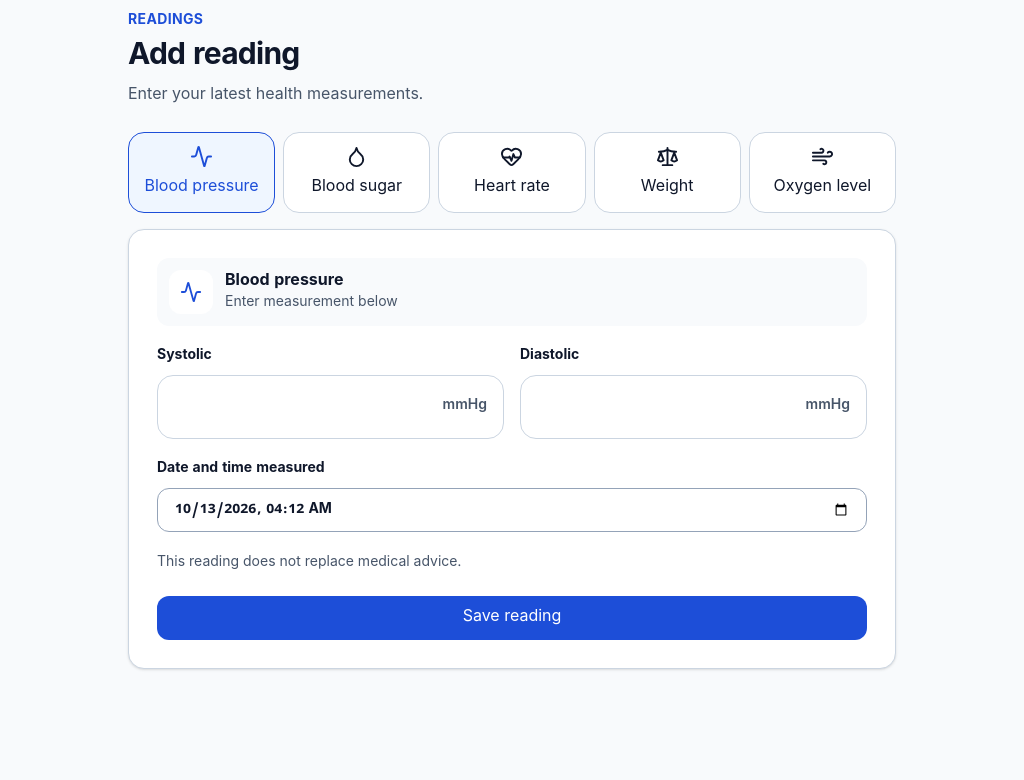
Test: AddReadingPage › validates required vitals and queues a critical reading when offline
Step 1. Click the button "Save reading" → {"x": 512, "y": 618}, box [157,596,867,640]
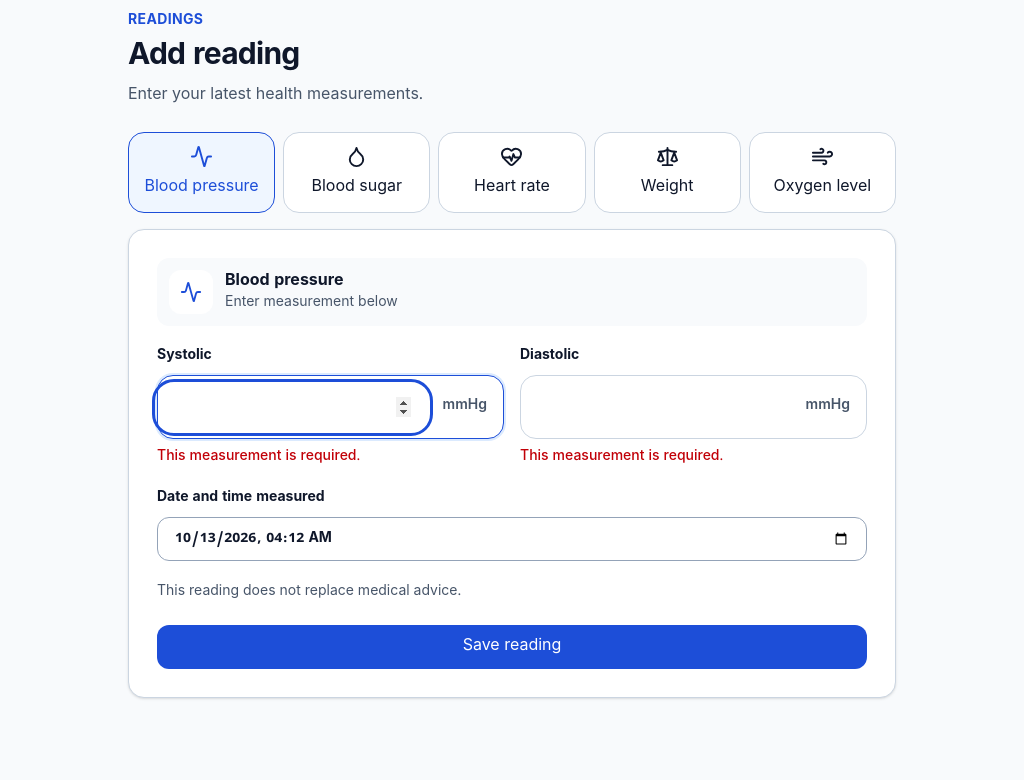
Result: the number of messages is 2 at [157,448,360,467]; [520,448,723,467]
Step 2. Type "184" into the number field named "Systolic (mmHg)" → {"x": 292, "y": 407}, box [158,384,427,430]
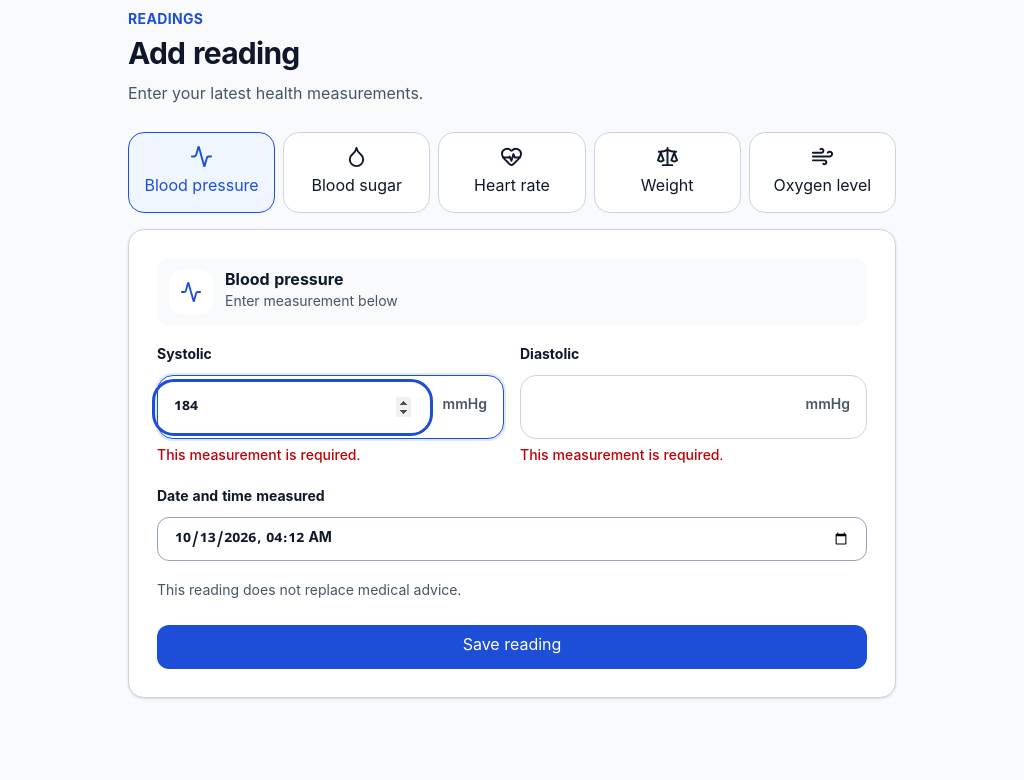
Step 3. Type "122" into the number field named "Diastolic (mmHg)" → {"x": 655, "y": 407}, box [521,384,790,430]
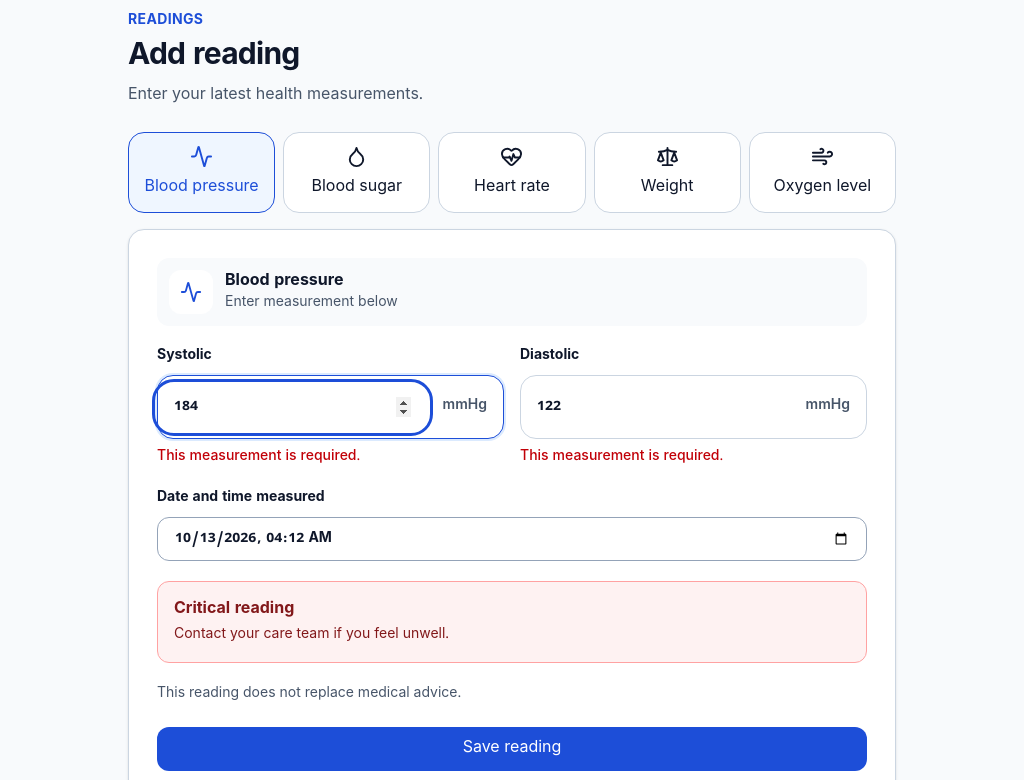
Step 4. Click the button "Save reading" → {"x": 512, "y": 749}, box [157,727,867,771]
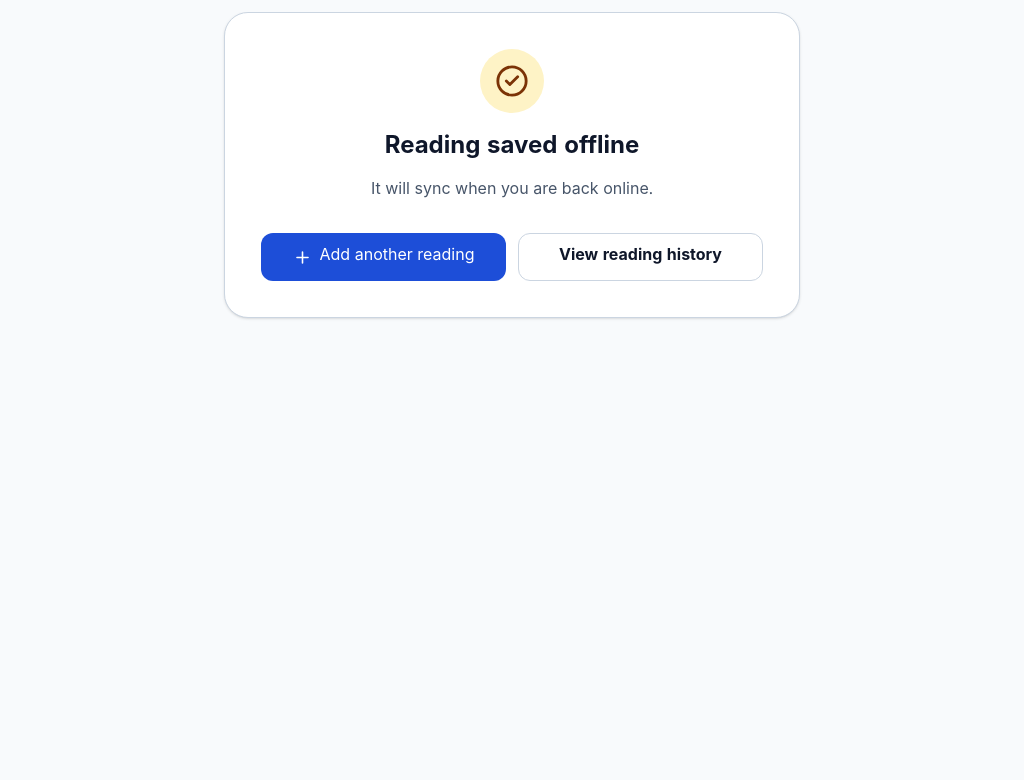
Result: the heading "Reading saved offline" is shown at [385,132,639,165]
